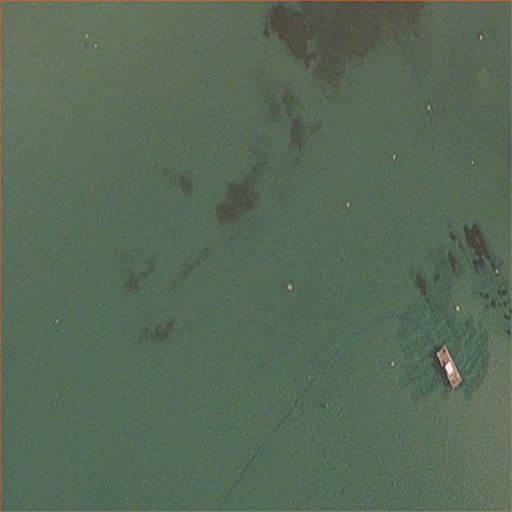ship: (434, 342, 463, 391)
